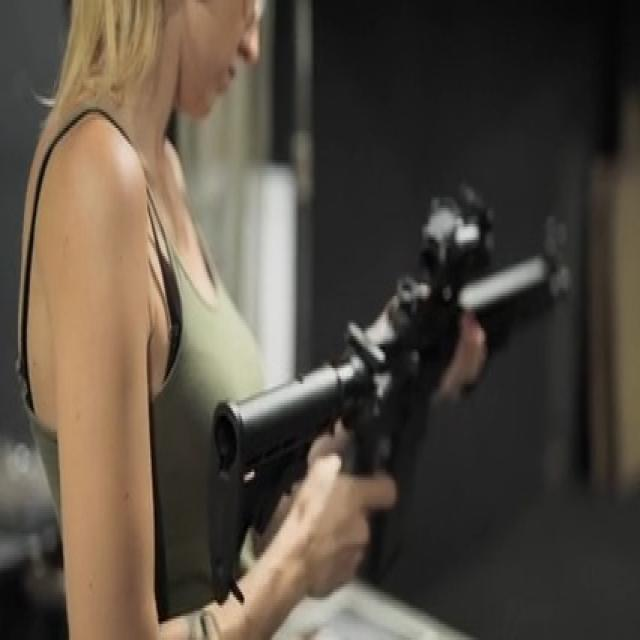Gun_Holder: (194, 195, 616, 599)
Person: (15, 0, 390, 640)
